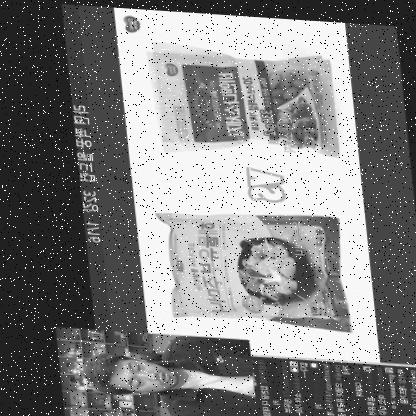streamer: (69, 329, 248, 416)
